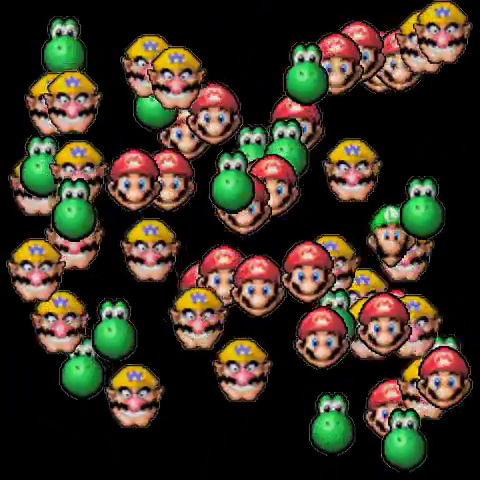luigi: (365, 206, 407, 262)
